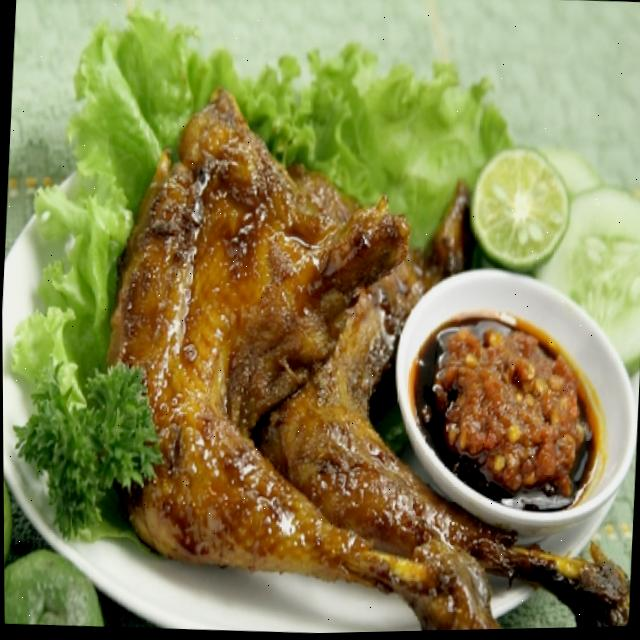鸡肉料理 含炸鸡: (0, 36, 640, 640)
